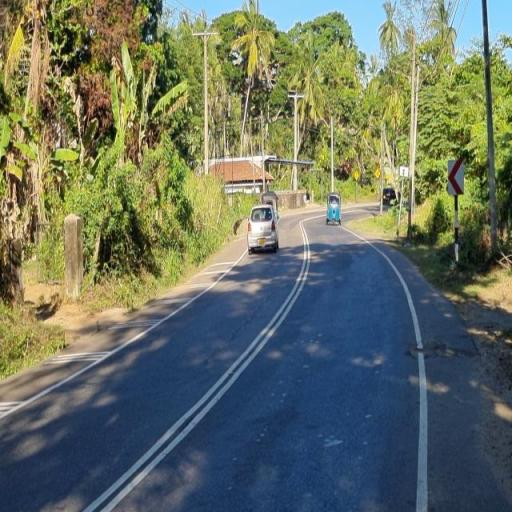double_white_line: (78, 215, 316, 512)
